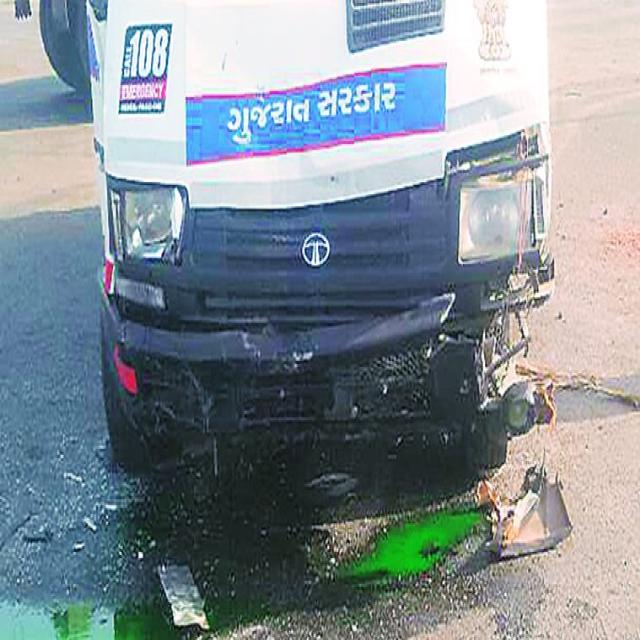accident: (41, 0, 554, 478)
